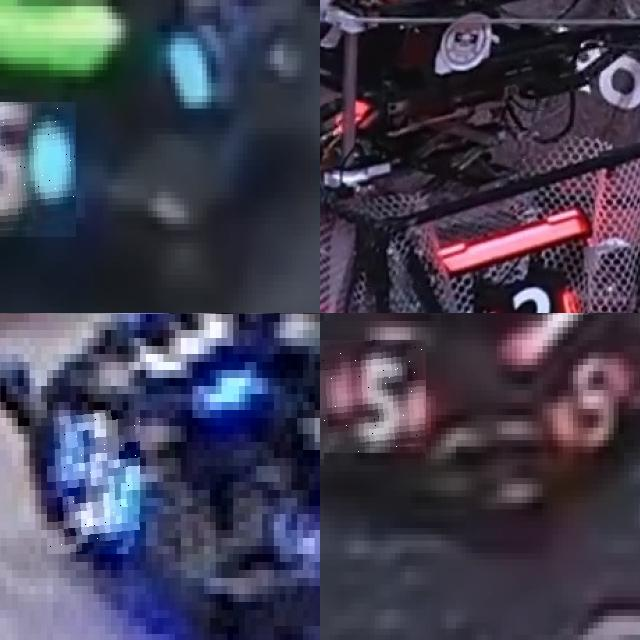B3: (47, 410, 140, 554)
B5: (0, 102, 76, 236)
R2: (487, 285, 574, 313)
R5: (320, 340, 425, 453), (547, 352, 640, 452)
